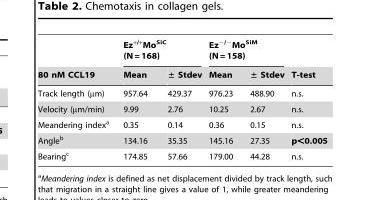table: (37, 37, 326, 160)
table column: (37, 37, 115, 160), (156, 37, 204, 160), (240, 37, 287, 160), (115, 37, 156, 160), (287, 37, 326, 160), (204, 37, 240, 160)
table column header: (37, 37, 326, 83)
table row: (37, 37, 326, 64), (37, 64, 326, 83), (37, 83, 326, 100), (37, 100, 326, 116), (37, 131, 326, 147), (37, 116, 326, 131), (37, 147, 326, 160)
table spanning cell: (37, 37, 115, 83), (115, 37, 204, 64), (204, 37, 287, 64), (287, 37, 326, 83)
